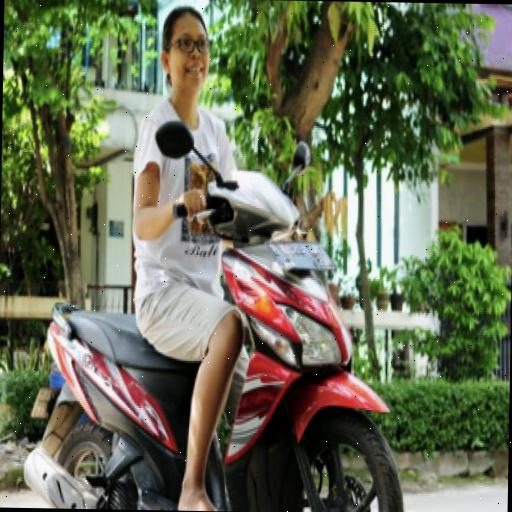no helmet: (97, 0, 410, 470)
